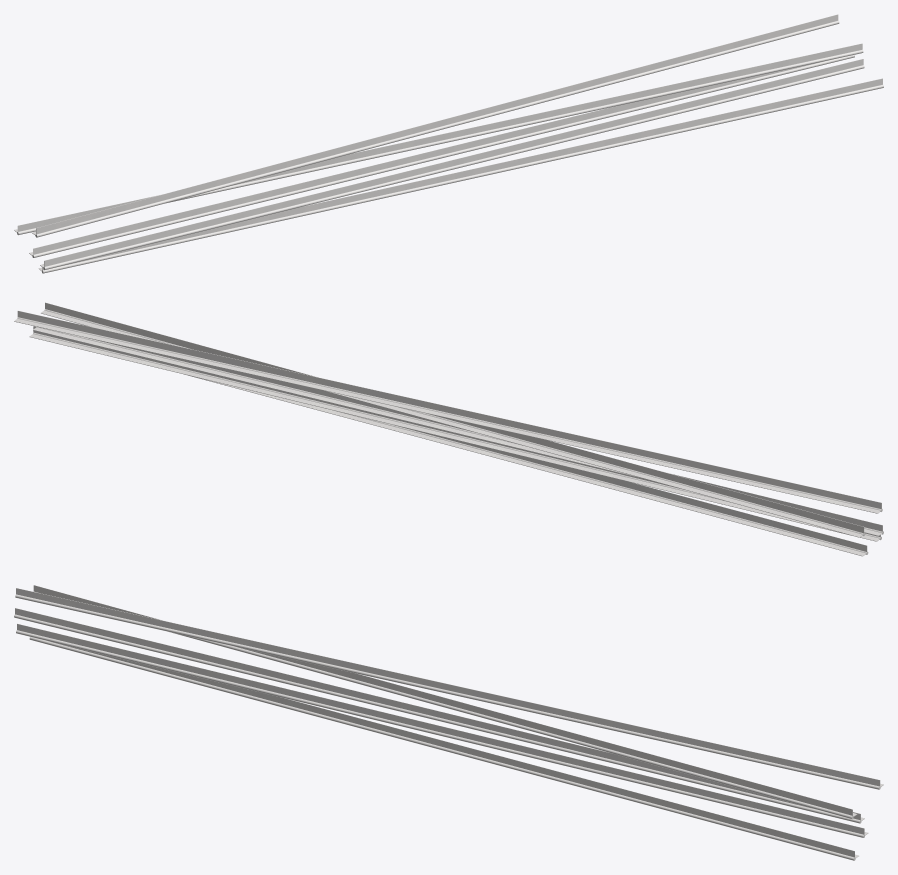
File: REV-COL-007_anim.glb
The picture shows the model from 3 angles, top to bottom: view 1: azimuth 30°, elevation 25°; view 2: azimuth 150°, elevation 25°; view 3: azimuth 330°, elevation 25°; orthographic projection. The views are drawn at different scales.
Parts seen in each view (by area): view 1: REV-COL-007_anim1, REV-COL-007_anim4, REV-COL-007_anim0, REV-COL-007_anim2, REV-COL-007_anim3; view 2: REV-COL-007_anim4, REV-COL-007_anim3, REV-COL-007_anim0, REV-COL-007_anim1, REV-COL-007_anim2; view 3: REV-COL-007_anim4, REV-COL-007_anim1, REV-COL-007_anim2, REV-COL-007_anim0, REV-COL-007_anim3.
Part boxes in pixels (x1=…): REV-COL-007_anim1: x1=40, y1=59, x2=864, y2=270; REV-COL-007_anim4: x1=32, y1=14, x2=839, y2=237; REV-COL-007_anim0: x1=38, y1=78, x2=883, y2=273; REV-COL-007_anim2: x1=29, y1=55, x2=854, y2=257; REV-COL-007_anim3: x1=14, y1=43, x2=863, y2=235; REV-COL-007_anim4: x1=14, y1=310, x2=882, y2=513; REV-COL-007_anim3: x1=41, y1=302, x2=865, y2=537; REV-COL-007_anim0: x1=188, y1=375, x2=868, y2=556; REV-COL-007_anim1: x1=29, y1=326, x2=881, y2=541; REV-COL-007_anim2: x1=33, y1=327, x2=883, y2=535; REV-COL-007_anim4: x1=15, y1=588, x2=883, y2=789; REV-COL-007_anim1: x1=16, y1=623, x2=868, y2=837; REV-COL-007_anim2: x1=14, y1=608, x2=864, y2=823; REV-COL-007_anim0: x1=29, y1=637, x2=858, y2=860; REV-COL-007_anim3: x1=33, y1=585, x2=857, y2=819.
Size of the model in its own units: 2.54 by 0.1466 by 0.2091.
1 material, 1 textured.
